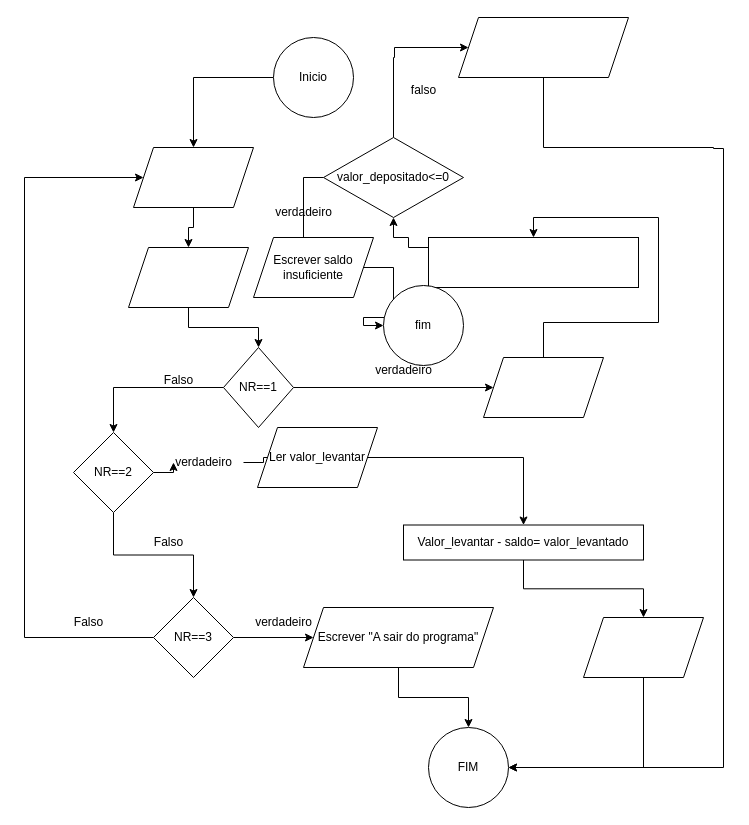
Some shapes in this 749 by 825 pixel diagram are drawn without their labels. Each missing label, with the box of its shape:
escrever valor_depositado: (458, 16, 628, 78)
Escrever valor_levantado: (582, 616, 704, 678)
Ler NR: (128, 246, 248, 308)
Ler saldo: (132, 146, 254, 208)
Ler valor_depositar: (482, 356, 604, 418)
valor_depositar + saldo = valor_depositado: (428, 236, 638, 288)
